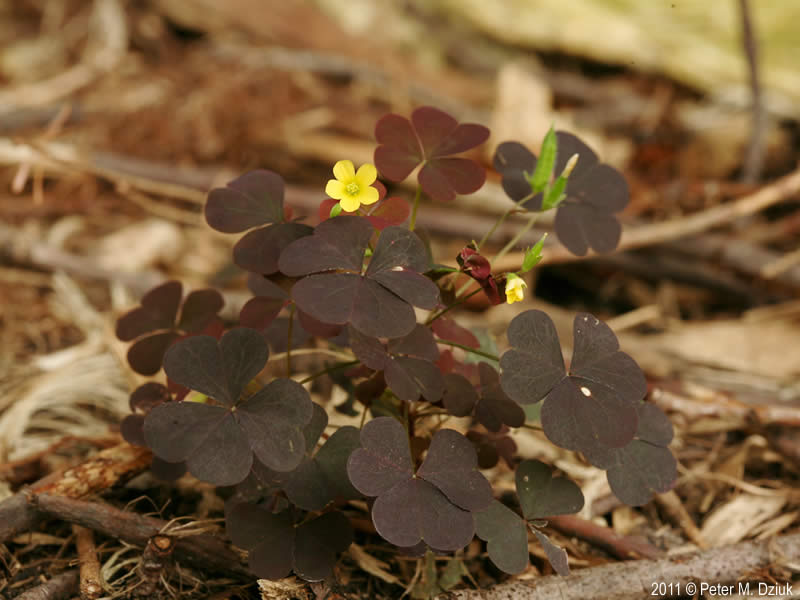oxalis: (113, 137, 728, 580)
